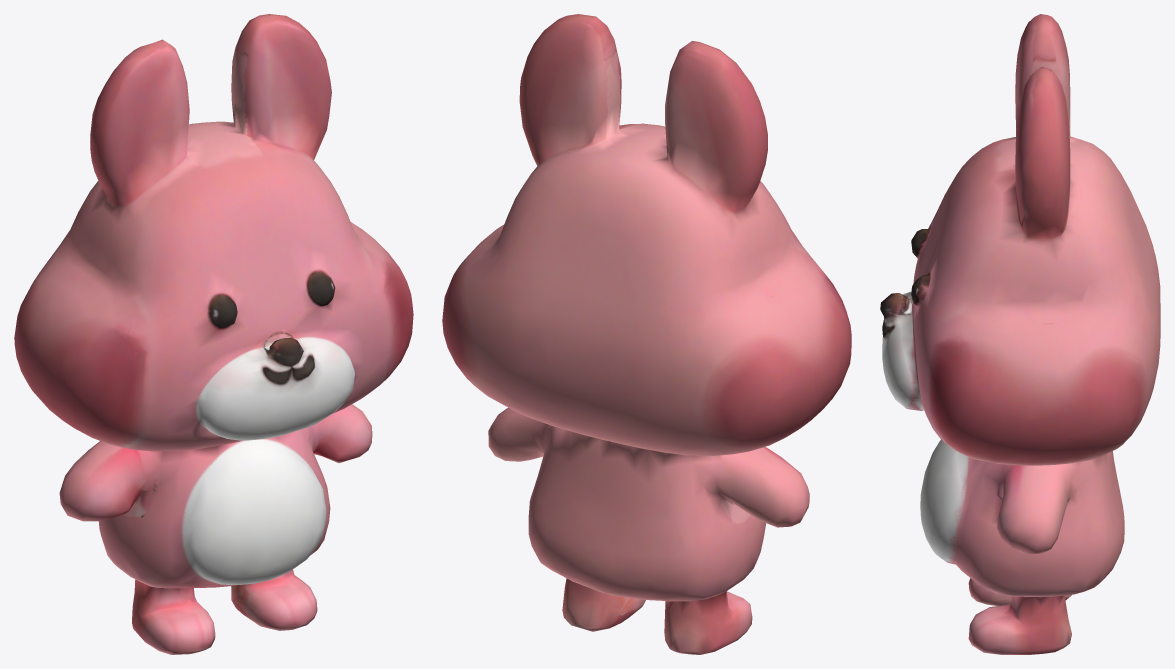
File: rabbit_texture.glb
The picture shows the model from 3 angles, left to right: view 1: azimuth 30°, elevation 25°; view 2: azimuth 150°, elevation 25°; view 3: azimuth 270°, elevation 25°; orthographic projection. The views are drawn at different scales.
Size of the model in its own units: 1.24 by 2 by 0.885.
Materials: 1 (1 with a texture image).
